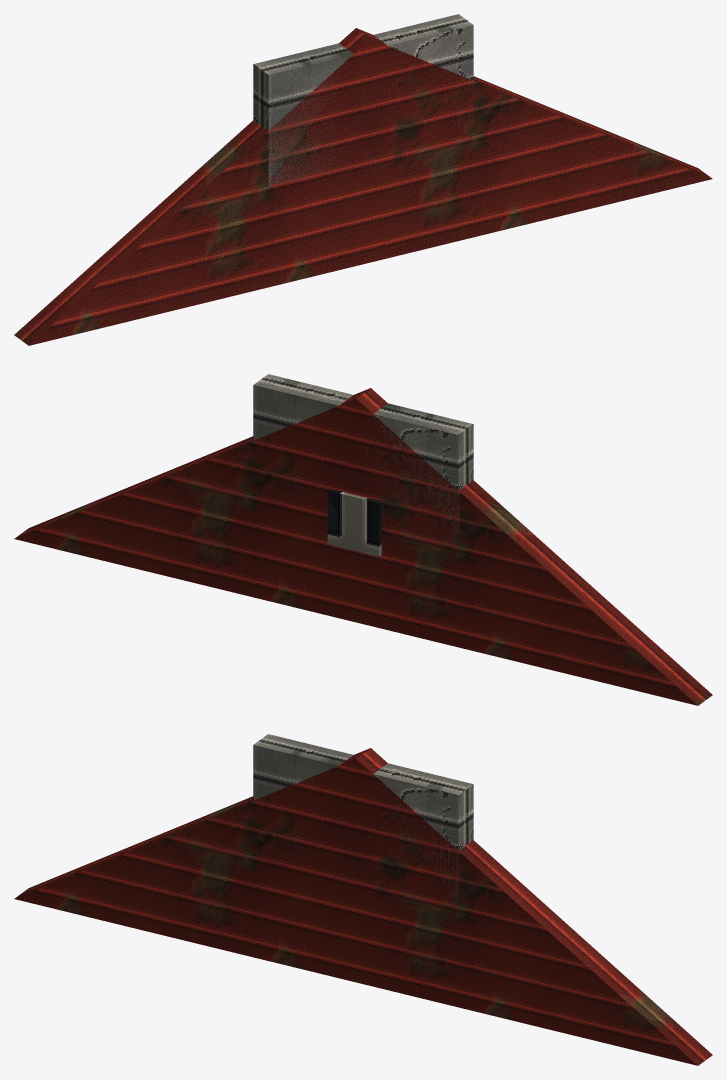
The model's file is gable_siding_red_8.glb.
3 views of the same model, one above another, from view 1: azimuth 30°, elevation 25°; view 2: azimuth 150°, elevation 25°; view 3: azimuth 330°, elevation 25° (orthographic).
Visible parts, largest first — view 1: gable_siding_red_8_mesh, gable_siding_red_8_col-colonly.001; view 2: gable_siding_red_8_mesh, gable_siding_red_8_col-colonly.001; view 3: gable_siding_red_8_mesh, gable_siding_red_8_col-colonly.001.
Boxes of the visible parts, <box> form: gable_siding_red_8_mesh: <box>14,28,712,345</box>; gable_siding_red_8_col-colonly.001: <box>253,14,473,186</box>; gable_siding_red_8_mesh: <box>14,388,712,705</box>; gable_siding_red_8_col-colonly.001: <box>253,374,473,544</box>; gable_siding_red_8_mesh: <box>14,748,712,1065</box>; gable_siding_red_8_col-colonly.001: <box>253,734,473,900</box>.
Size of what is drawn, in the model's own units: 8 by 2.5 by 0.355.
Materials: 3 (3 with a texture image).
